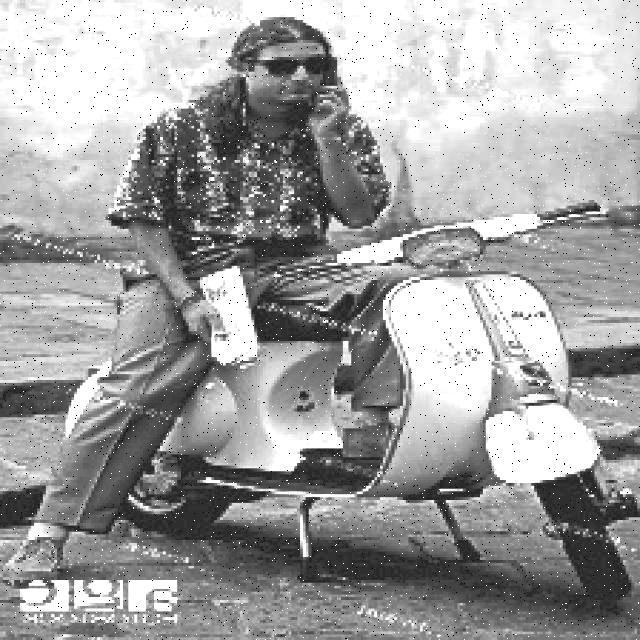Bike: (229, 242, 637, 598)
